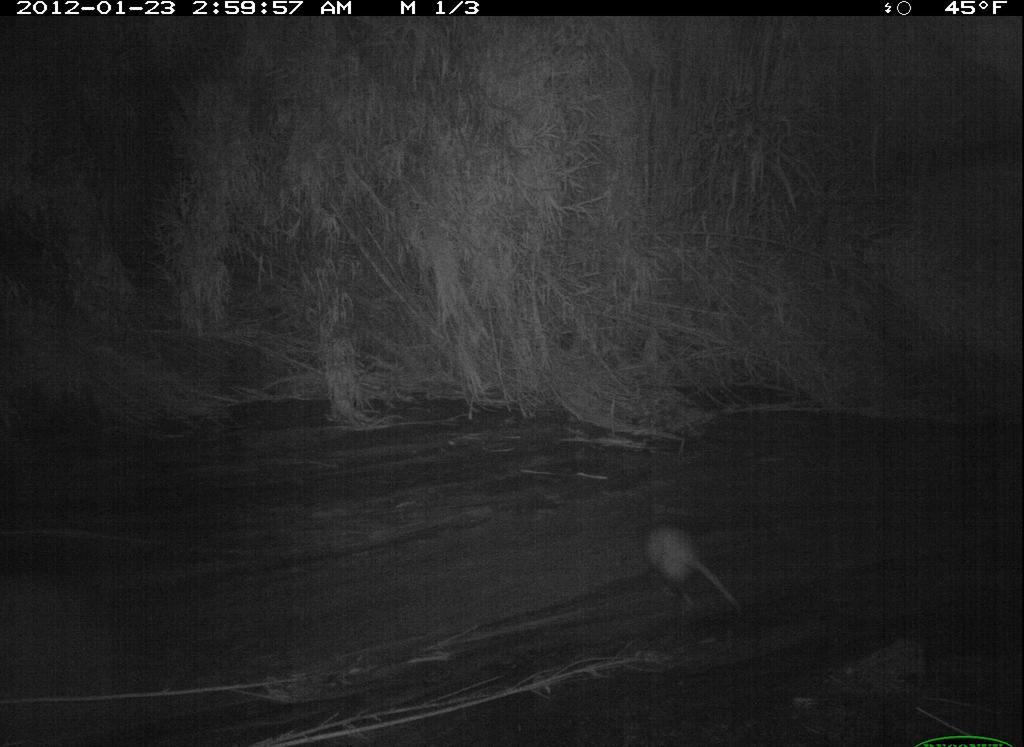opossum: (620, 502, 754, 634)
